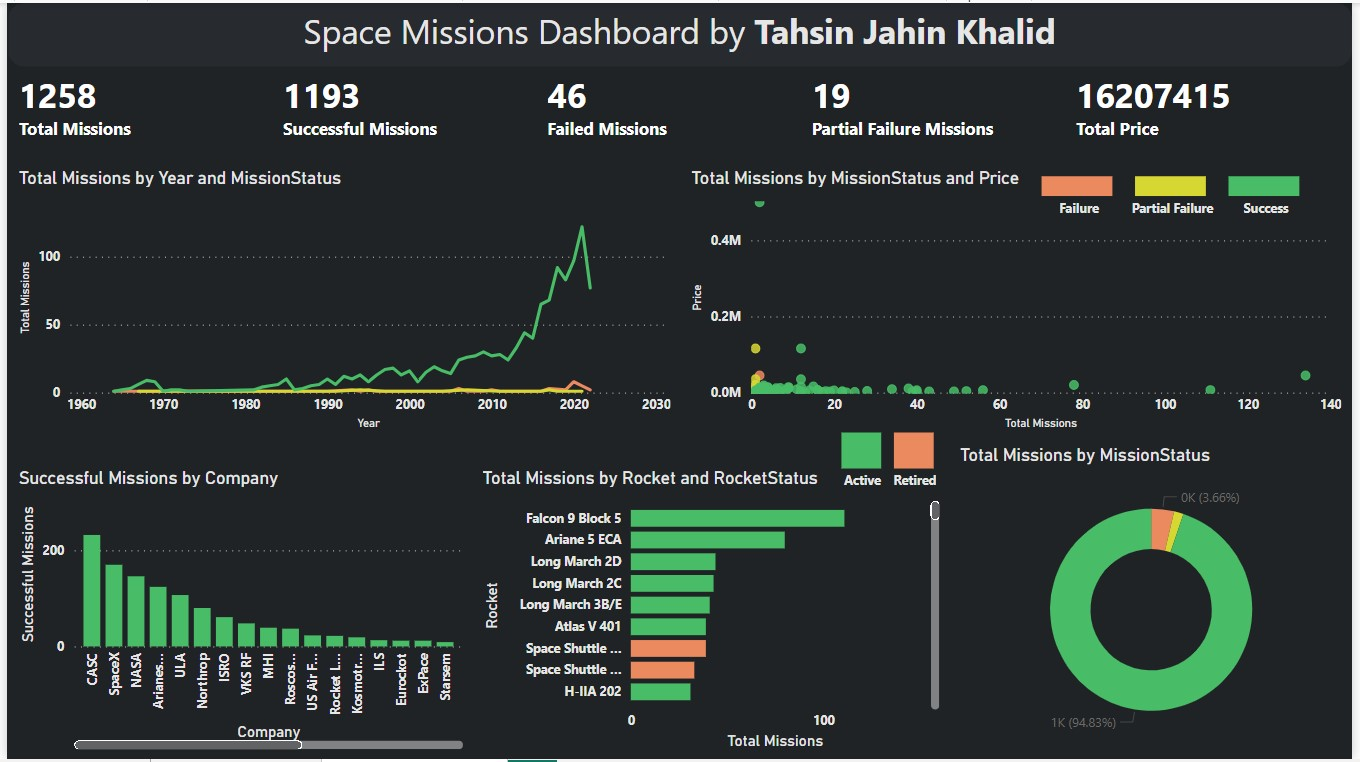

This screenshot's page, from the dashboard's own definition file:
{"tool":"powerbi","page":{"name":"Polished Dashboard","canvas":[1280,720],"ordinal":1},"visuals":[{"type":"shape","box":[1.2,0,1279.3,60.7],"z":4000},{"type":"donutChart","fields":{"Y":["All Measures.Total Missions"],"Series":["space_missions.MissionStatus"]},"box":[897.3,415.3,383.2,304.7],"z":5000},{"type":"lineChart","fields":{"Category":["Date Table.Year"],"Y":["All Measures.Total Missions"],"Series":["space_missions.MissionStatus"]},"box":[1.2,151.1,640.3,264.2],"z":6000},{"type":"columnChart","fields":{"Y":["All Measures.Successful Missions"],"Category":["space_missions.Company"]},"box":[1.2,436.8,442.7,283.2],"z":7000},{"type":"multiRowCard","fields":{"Values":["All Measures.Total Missions","All Measures.Successful Missions","All Measures.Failed Missions","All Measures.Partial Failure Missions","All Measures.Total Price"]},"box":[1,60.7,1278.1,90.4],"z":8000},{"type":"scatterChart","fields":{"X":["All Measures.Total Missions"],"Series":["space_missions.MissionStatus"],"Y":["space_missions.Price"]},"box":[641.5,151.1,639.1,264.2],"z":9000},{"type":"barChart","fields":{"Y":["All Measures.Total Missions"],"Category":["space_missions.Rocket"],"Series":["space_missions.RocketStatus"]},"box":[442.7,436.8,454.6,283.2],"z":10000},{"type":"textbox","box":[1,0,1278.1,60.7],"z":11000},{"type":"columnChart","fields":{"Category":["space_missions.MissionStatus"],"Y":["All Measures.Legend"],"Series":["space_missions.MissionStatus"]},"box":[939,151.1,340.4,67.8],"z":11001},{"type":"columnChart","fields":{"Series":["space_missions.RocketStatus"],"Category":["space_missions.RocketStatus"],"Y":["All Measures.Legend"]},"box":[739,395.1,199.9,83.3],"z":11002}]}

Visuals, with their boxes in screenshot pixels (x1, y1, x2, y2), scaled from the page's 1280x720 canvas onto the 1360x762 screenshot:
shape: bbox=[1, 0, 1359, 64]
donutChart - All Measures.Total Missions x space_missions.MissionStatus: bbox=[953, 440, 1359, 761]
lineChart - Date Table.Year x All Measures.Total Missions: bbox=[1, 160, 682, 440]
columnChart - All Measures.Successful Missions x space_missions.Company: bbox=[1, 462, 472, 761]
multiRowCard - All Measures.Total Missions x All Measures.Successful Missions: bbox=[1, 64, 1359, 160]
scatterChart - All Measures.Total Missions x space_missions.MissionStatus: bbox=[682, 160, 1359, 440]
barChart - All Measures.Total Missions x space_missions.Rocket: bbox=[470, 462, 953, 761]
textbox: bbox=[1, 0, 1359, 64]
columnChart - space_missions.MissionStatus x All Measures.Legend: bbox=[998, 160, 1359, 232]
columnChart - space_missions.RocketStatus x space_missions.RocketStatus: bbox=[785, 418, 998, 506]
